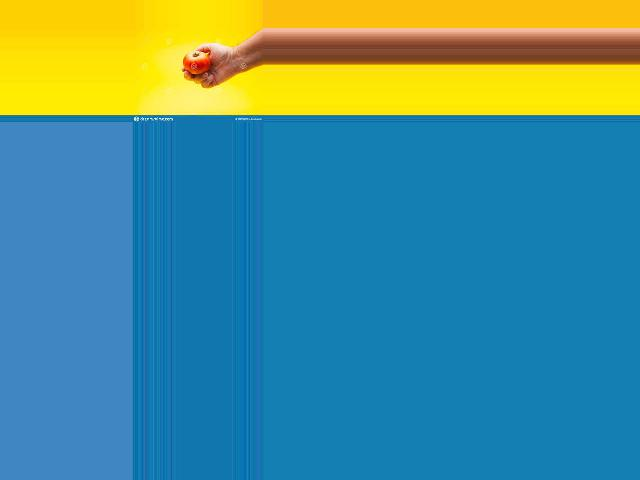tomato: (183, 51, 210, 74)
